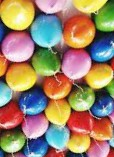Balloon: (62, 14, 96, 48), (31, 13, 64, 47), (1, 31, 34, 62), (1, 1, 35, 31), (5, 62, 36, 92), (62, 48, 92, 77), (32, 47, 62, 75), (19, 86, 47, 115), (85, 62, 114, 89), (68, 84, 95, 111), (45, 98, 72, 125), (44, 73, 72, 99), (45, 124, 71, 151), (89, 34, 114, 62), (1, 100, 24, 129), (1, 127, 25, 153), (21, 114, 48, 137), (90, 116, 114, 141), (69, 110, 91, 135), (91, 94, 114, 117), (23, 138, 48, 157), (69, 133, 90, 153), (89, 140, 110, 157)
